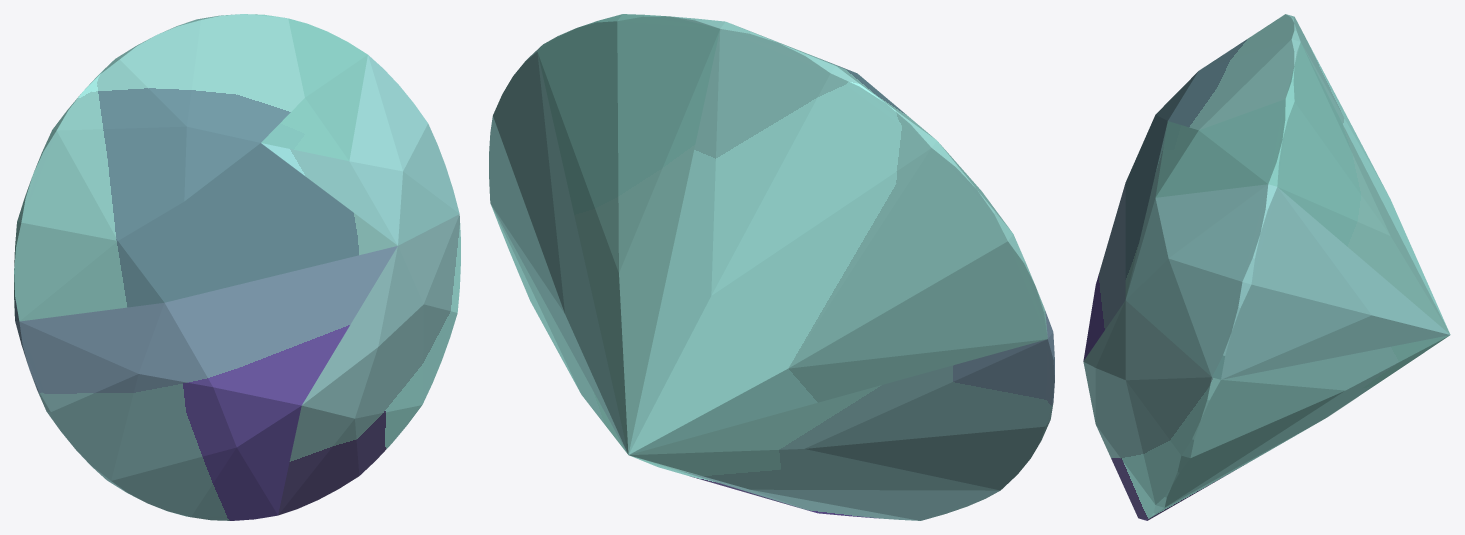
The model's file is Diamond.obj.
3 renders of one model, left to right at view 1: azimuth 30°, elevation 25°; view 2: azimuth 150°, elevation 25°; view 3: azimuth 270°, elevation 25°, orthographic. The views are drawn at different scales.
Parts seen in each view (by area): view 1: Object.1; view 2: Object.1; view 3: Object.1.
Boxes of the visible parts, x1,y1,x2,y2 form: Object.1: [14, 14, 460, 520]; Object.1: [489, 14, 1054, 520]; Object.1: [1083, 14, 1450, 520].
Bounding box in the file's own units: 21.46 × 20.57 × 15.
1 material, 1 textured.
